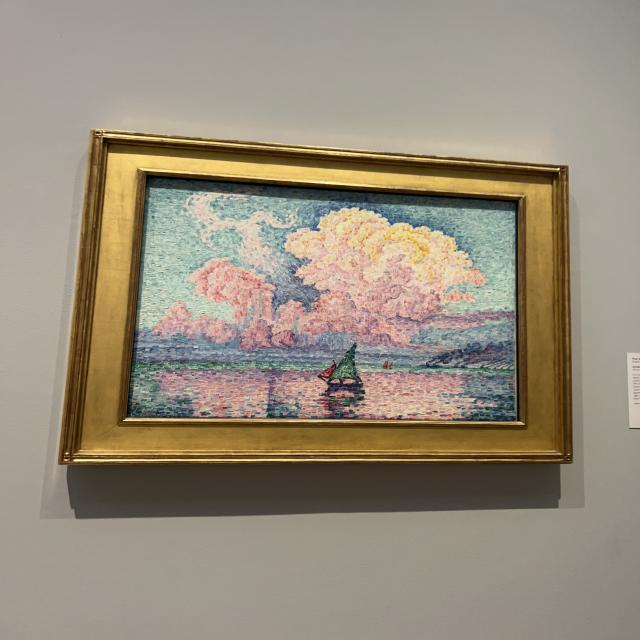sunrise: (129, 175, 518, 421)
